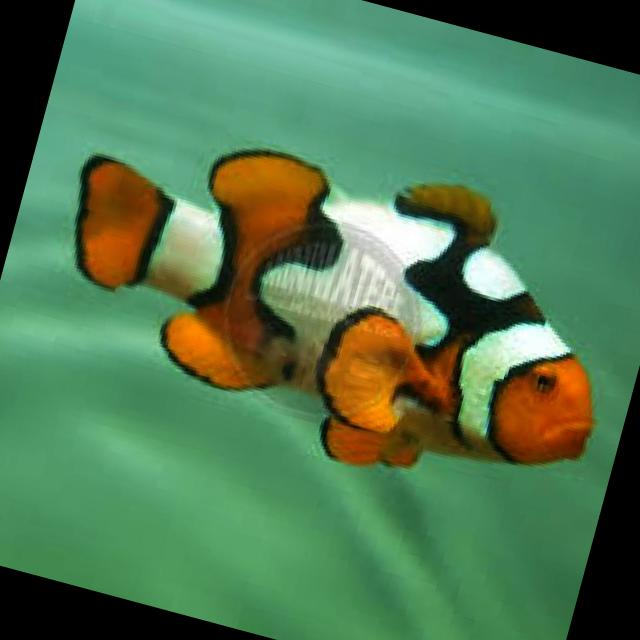ClownFish: (31, 88, 640, 522)
